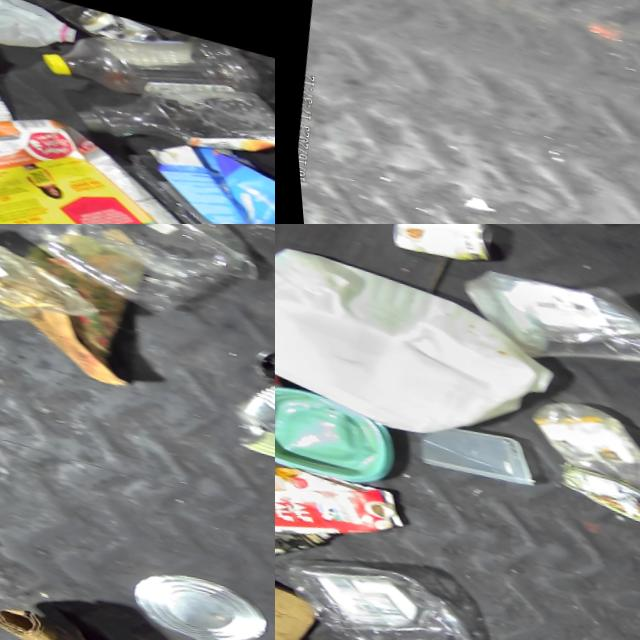can: (221, 353, 275, 491), (545, 454, 640, 522), (62, 0, 156, 41), (387, 224, 482, 261)
milk_jug: (275, 224, 566, 459), (0, 0, 85, 58)
non_white_jug: (136, 118, 275, 224)
plastic_bottle: (65, 31, 275, 176), (31, 0, 270, 119), (527, 383, 640, 479)
